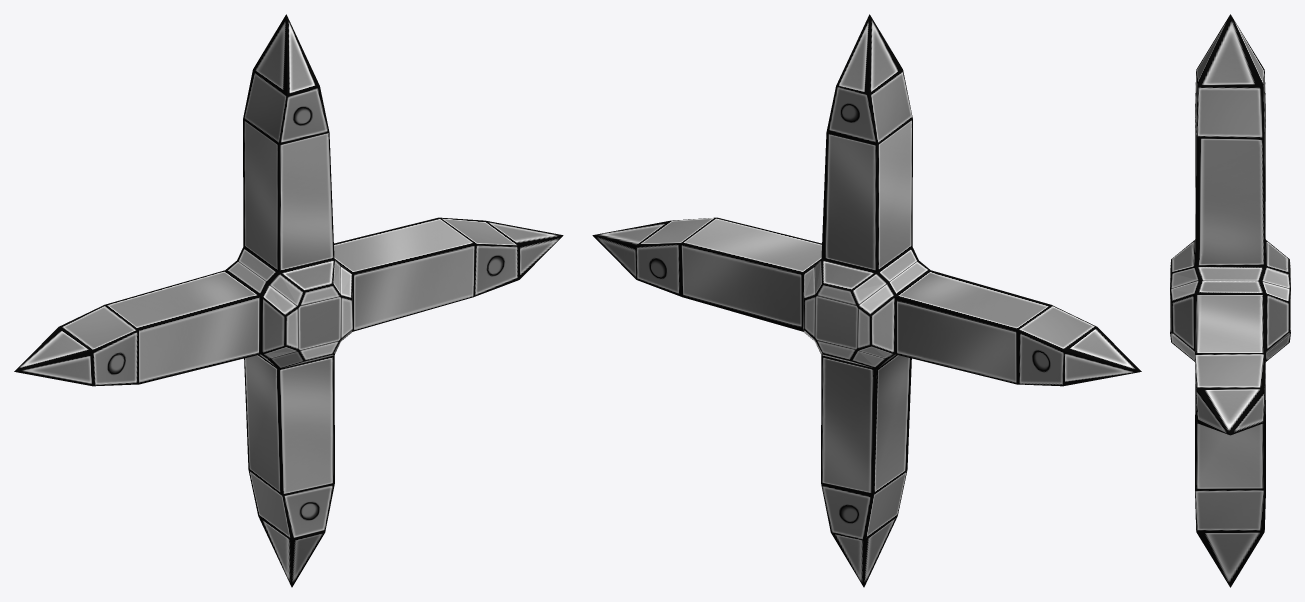
Rendered from Naz Shuriken.FBX.
3 views of the same model, side by side, from view 1: azimuth 30°, elevation 25°; view 2: azimuth 150°, elevation 25°; view 3: azimuth 270°, elevation 25° (orthographic).
Visible parts, largest first — view 1: Naz shuriken; view 2: Naz shuriken; view 3: Naz shuriken.
Part boxes in pixels (<box>): Naz shuriken: <box>14,14,563,587</box>; Naz shuriken: <box>592,14,1141,587</box>; Naz shuriken: <box>1170,14,1290,587</box>.
Bounding box in the file's own units: 9.05 × 1.74 × 9.05.
